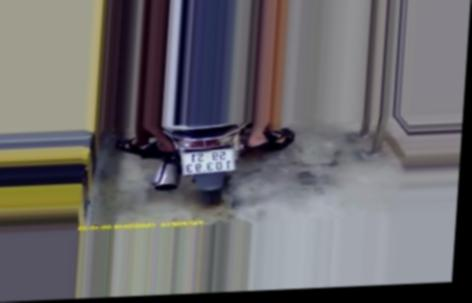License_Plate: (180, 145, 240, 176)
